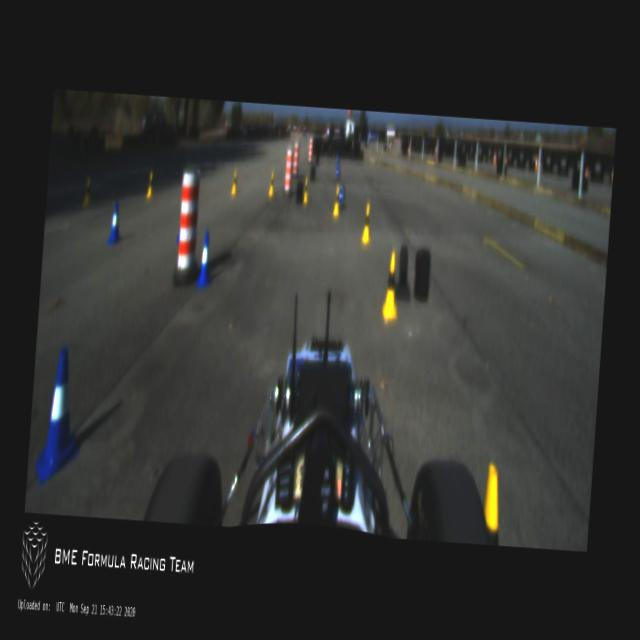blue_cone: (34, 344, 85, 486), (195, 230, 214, 289), (106, 202, 122, 246)
yellow_cone: (479, 460, 504, 544), (381, 250, 402, 322), (361, 201, 374, 245), (144, 170, 156, 200), (82, 177, 92, 208), (332, 186, 341, 217), (268, 170, 276, 198), (302, 177, 310, 205), (230, 170, 238, 195)
